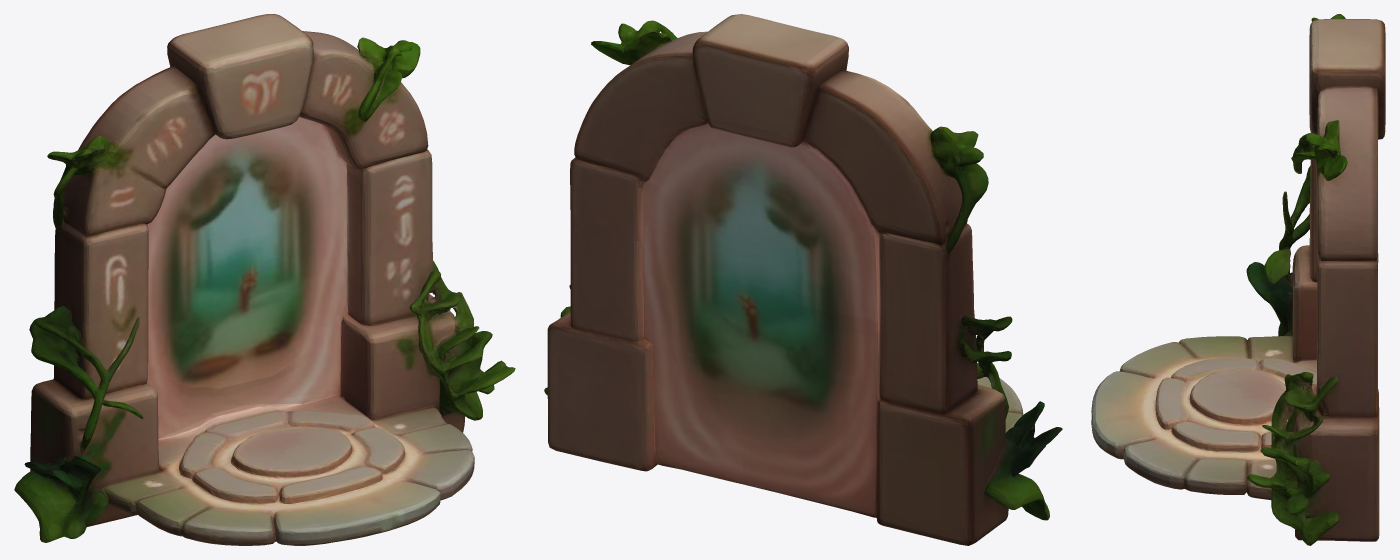
Rendered from portal_stone.glb.
3 renders of one model, left to right at view 1: azimuth 30°, elevation 25°; view 2: azimuth 150°, elevation 25°; view 3: azimuth 270°, elevation 25°, orthographic. The views are drawn at different scales.
Parts seen in each view (by area): view 1: world; view 2: world; view 3: world.
Boxes of the visible parts, x1,y1,x2,y2 form: world: [14, 14, 515, 545]; world: [544, 14, 1062, 545]; world: [1091, 14, 1385, 545].
Size of the model in its own units: 1 by 0.8922 by 0.5818.
Materials: 1 (1 with a texture image).
